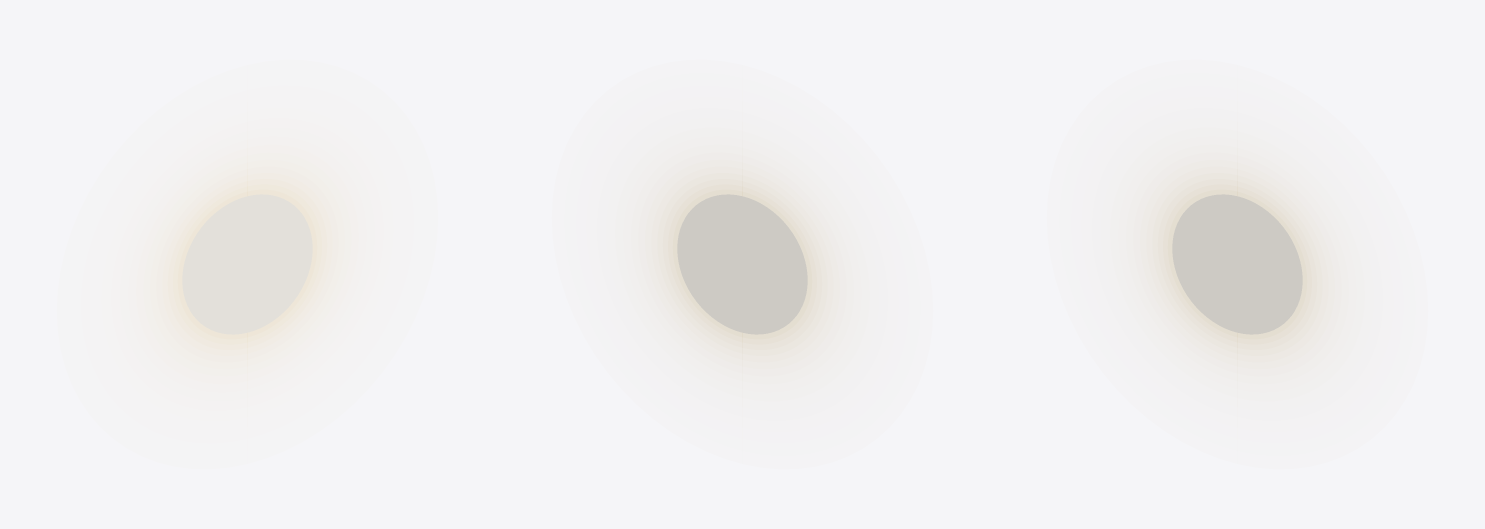
Rendered from sun.glb.
3 views of the same model, side by side, from view 1: azimuth 30°, elevation 25°; view 2: azimuth 150°, elevation 25°; view 3: azimuth 330°, elevation 25° (orthographic).
Parts seen in each view (by area): view 1: Sun; view 2: Sun; view 3: Sun.
Part boxes in pixels (left/top/right/bottom): Sun: left=144, top=148, right=350, bottom=380; Sun: left=639, top=148, right=845, bottom=380; Sun: left=1134, top=148, right=1340, bottom=380.
Size of what is drawn, in the model's own units: 7.15 by 7.15 by 0.
